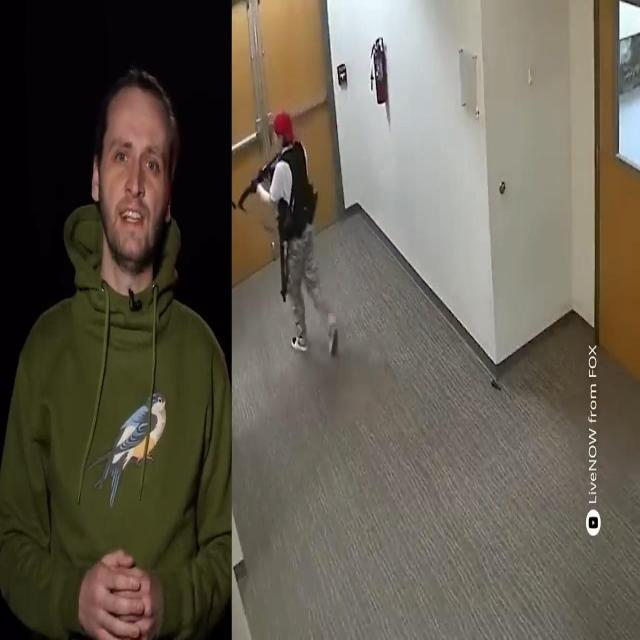pistol: (232, 144, 278, 218), (274, 206, 294, 312)
